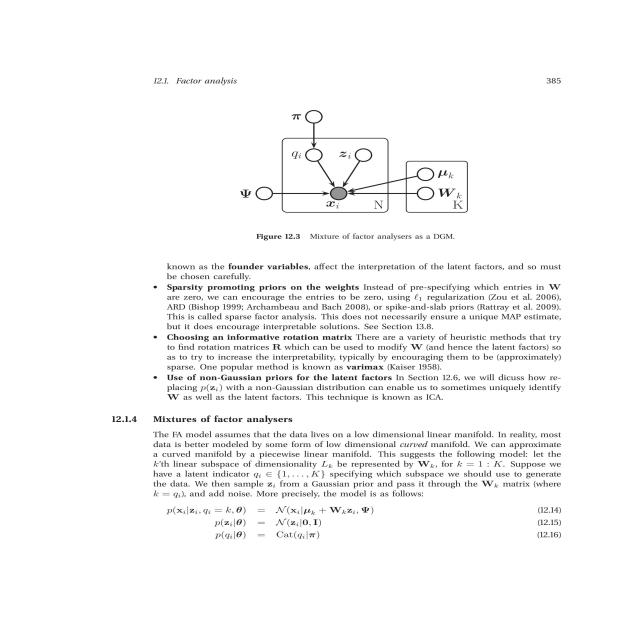diagram: (121, 97, 640, 242)
